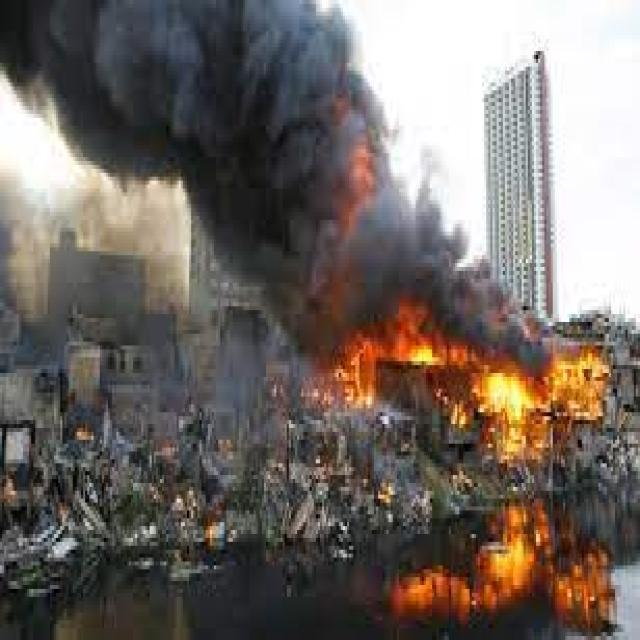Fire: (332, 302, 606, 456)
Smoke: (0, 0, 553, 377)
